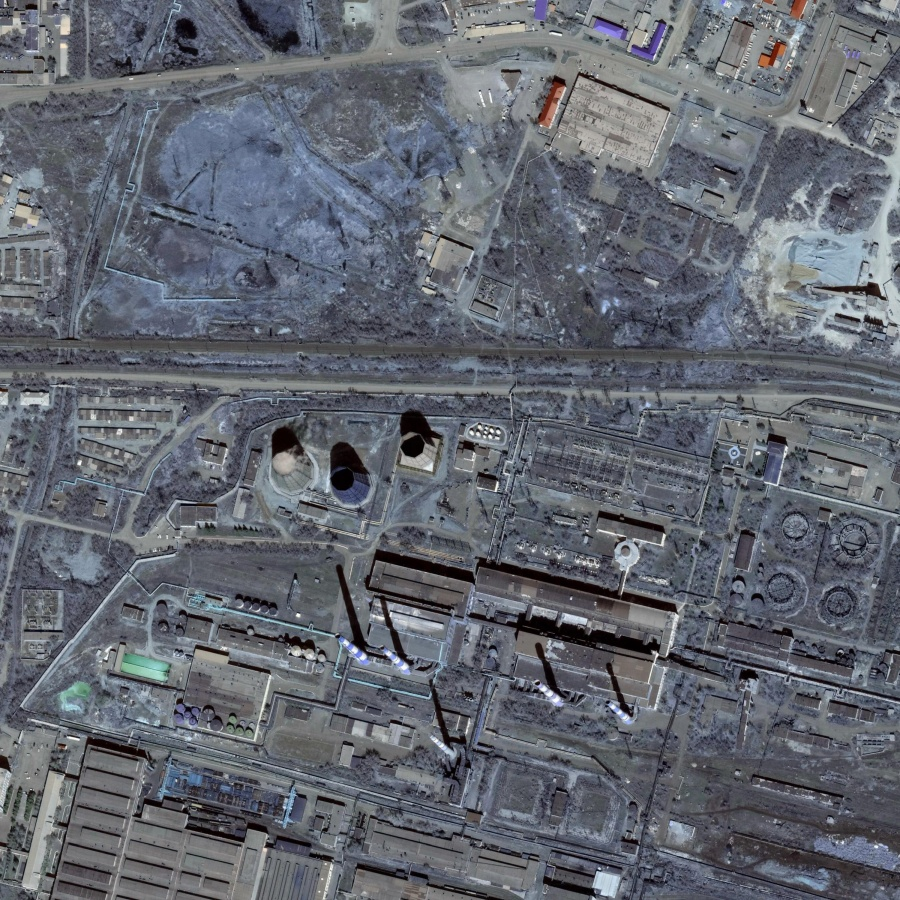PowerPlant: (258, 393, 672, 767)
